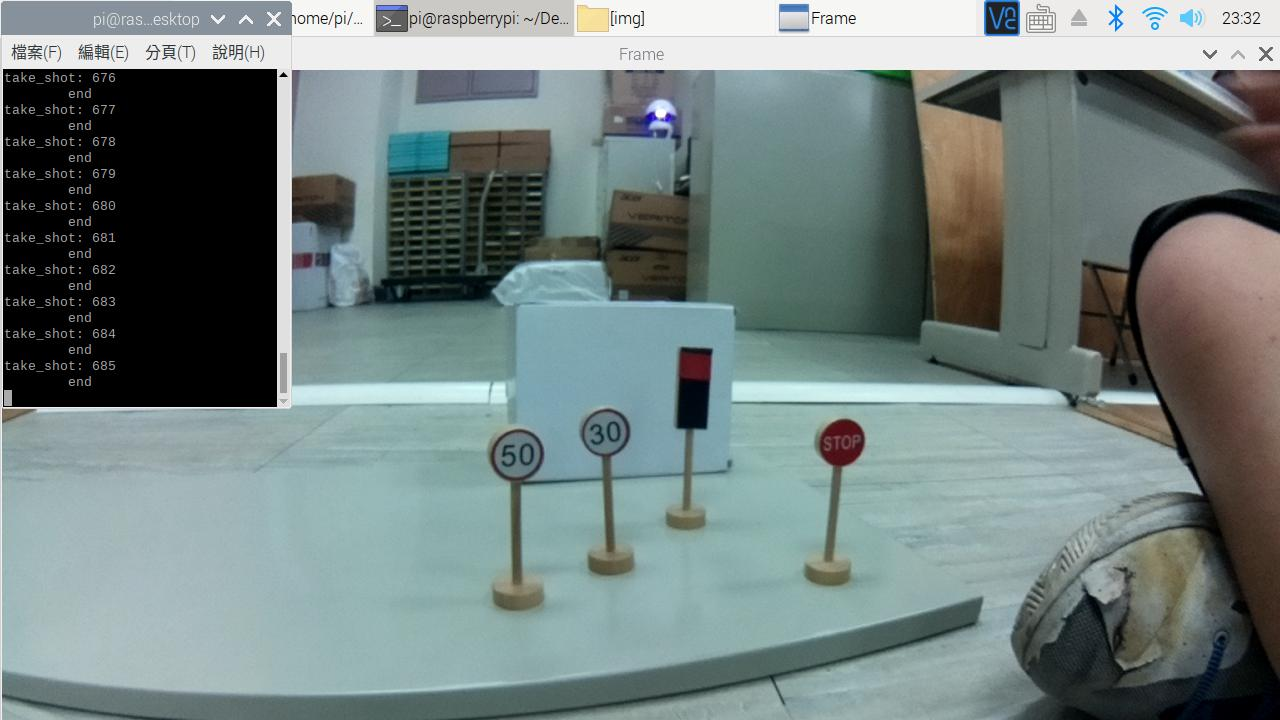Red: (665, 334, 721, 442)
Speed30: (574, 396, 634, 468)
Speed50: (482, 422, 551, 482)
Stop: (811, 404, 873, 477)
